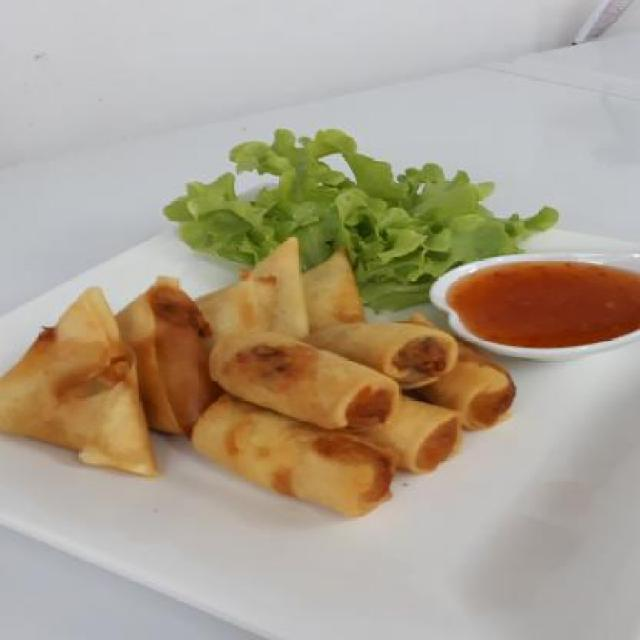samosa: (0, 238, 358, 462)
spring rolls: (172, 313, 518, 515)
